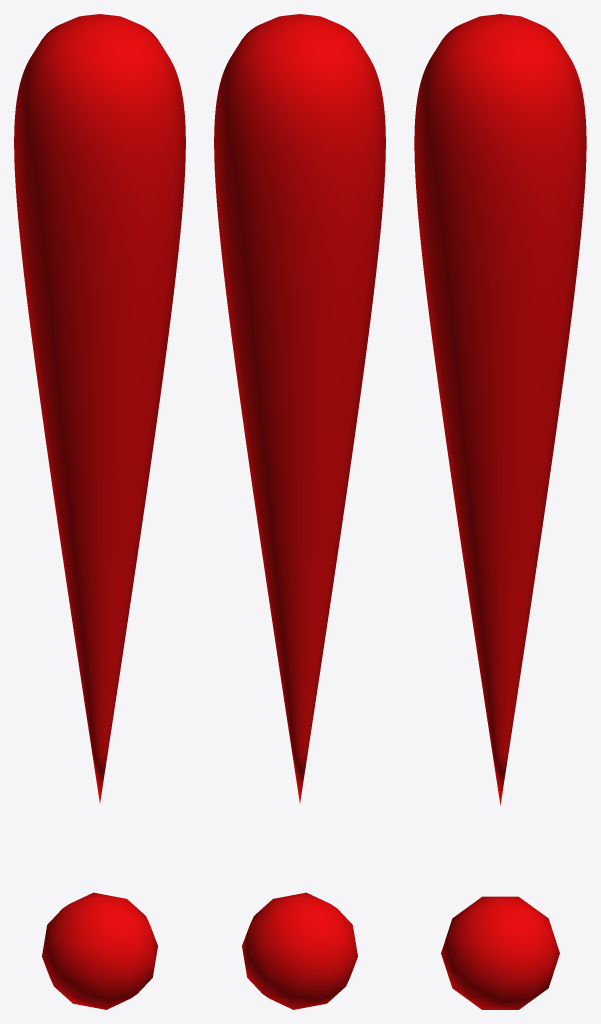
File: exclam1.fbx
3 views of the same model, side by side, from view 1: azimuth 30°, elevation 25°; view 2: azimuth 150°, elevation 25°; view 3: azimuth 270°, elevation 25° (orthographic).
Parts seen in each view (by area): view 1: Icosphere; view 2: Icosphere; view 3: Icosphere.
Part boxes in pixels (bbox=[...]): Icosphere: bbox=[14, 14, 185, 1009]; Icosphere: bbox=[214, 14, 385, 1009]; Icosphere: bbox=[414, 14, 586, 1009].
Bounding box in the file's own units: 92.71 × 586 × 92.71.
